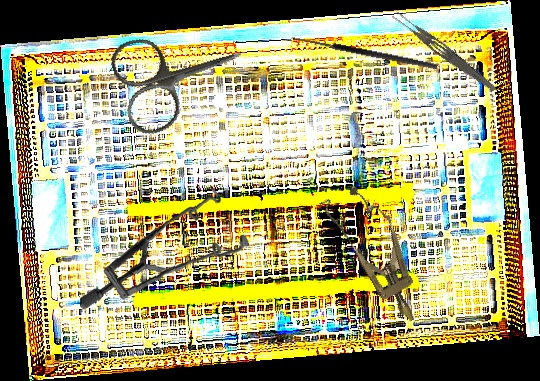Dressing Forceps: (389, 8, 501, 94)
Hook Surgical: (289, 34, 438, 78)
Iris Scissors: (106, 8, 257, 141)
Speculum: (79, 179, 253, 320), (317, 177, 438, 334)
